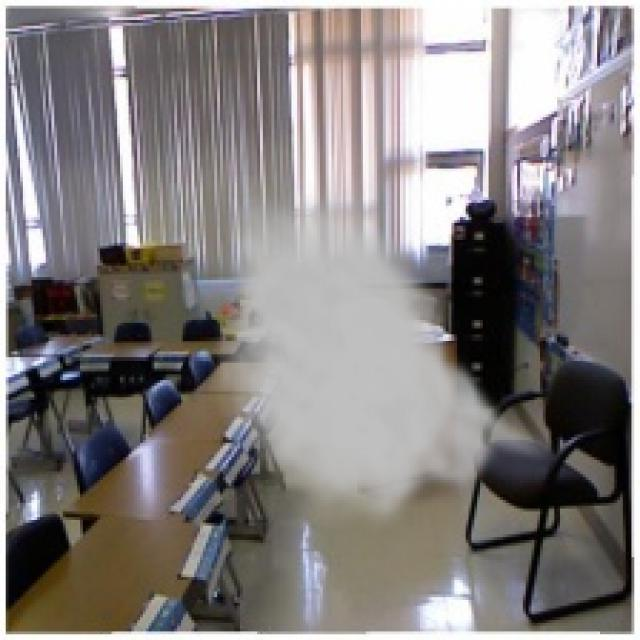Smoke: (208, 172, 560, 534)
